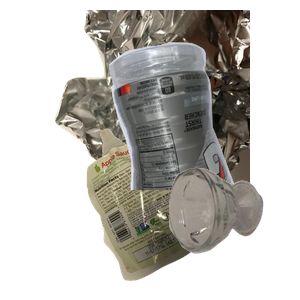glass: (166, 165, 300, 300)
metal: (52, 10, 292, 190)
plastic: (106, 40, 300, 220)
trash: (84, 126, 291, 300)
